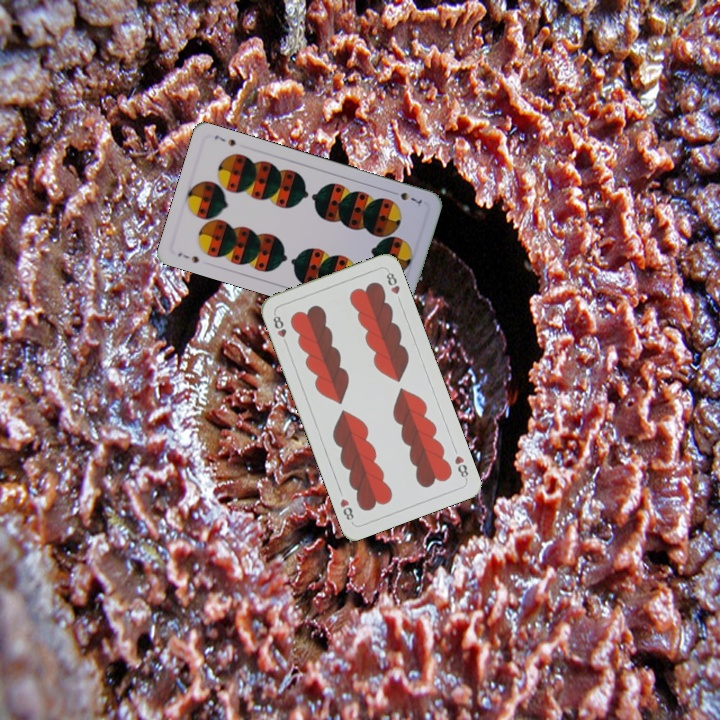H8: (269, 309, 290, 348), (451, 451, 471, 483)
S7: (387, 187, 424, 206), (174, 248, 201, 266)
